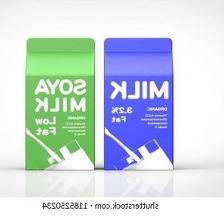carton: (24, 35, 97, 173), (101, 36, 175, 170)
